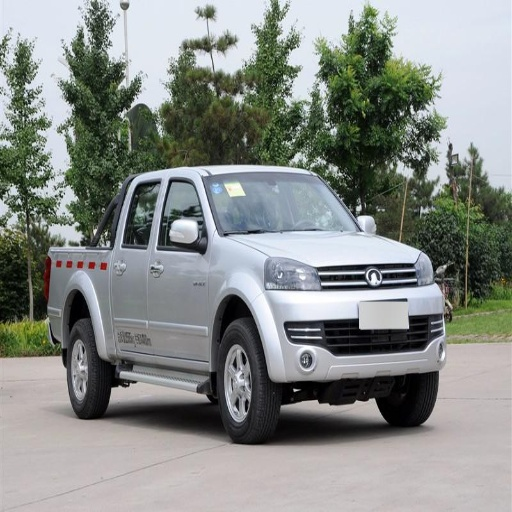front_bumper: (258, 256, 445, 381)
front_right_door: (148, 175, 208, 360)
front_right_light: (265, 259, 320, 290)
trunk: (46, 251, 107, 348)
